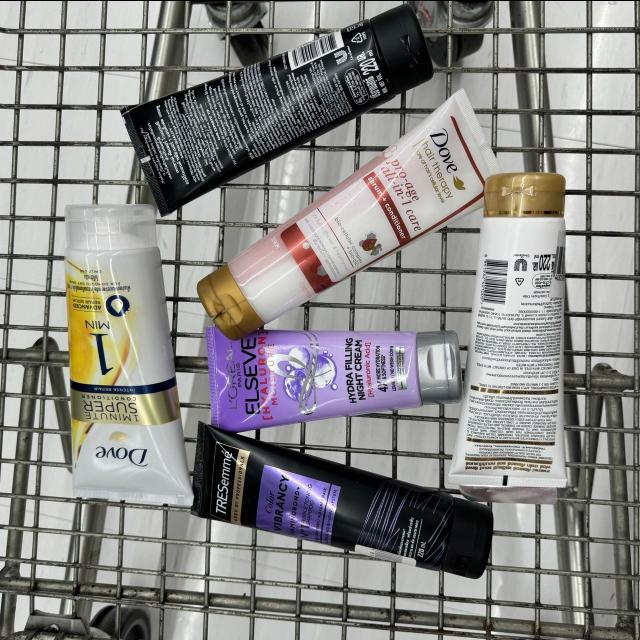Squeeze Tube: (195, 86, 500, 348), (118, 1, 440, 218), (191, 421, 489, 585), (61, 199, 195, 512), (453, 175, 575, 486), (210, 323, 462, 436)
